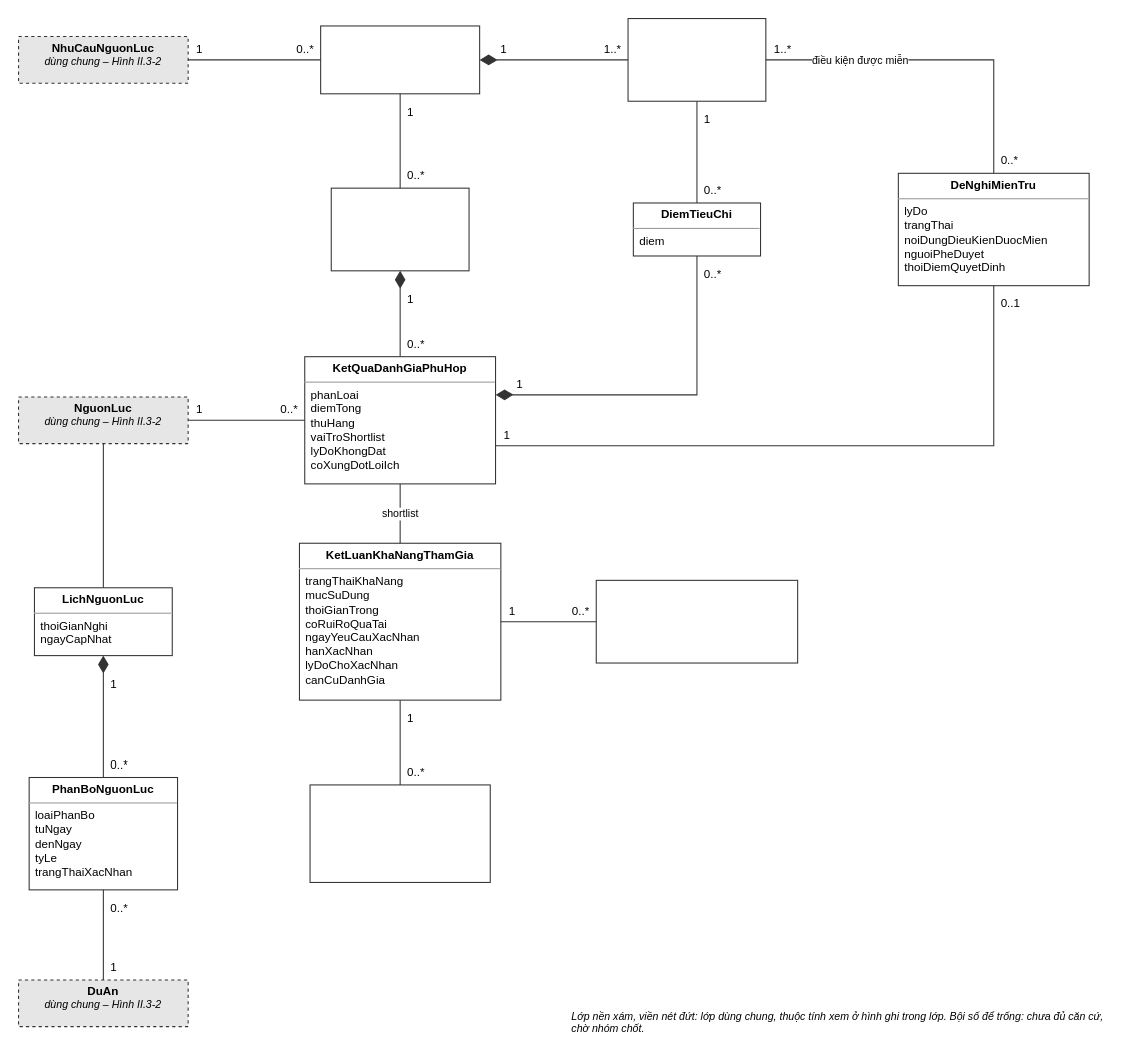
This 1139x1055 diagram has some shape labels left out. The centre of each missing label's shape, as x and y in pixels:
"BoTieuChiPhuHop phienBan ngayXacLap" goes at (400,59).
"DeXuatThamGiaMotPhan tyLe khungThoiGian trangThaiPM" goes at (696,621).
"HoSoVuotTaiNgoaiLe mucCanhBao lyDo capThamQuyen trangThai" goes at (399,833).
"PhienTimKiem maPhien thoiDiem trangThai" goes at (399,229).
"TieuChiPhuHop tenTieuChi loai trongSo" goes at (696,59).
